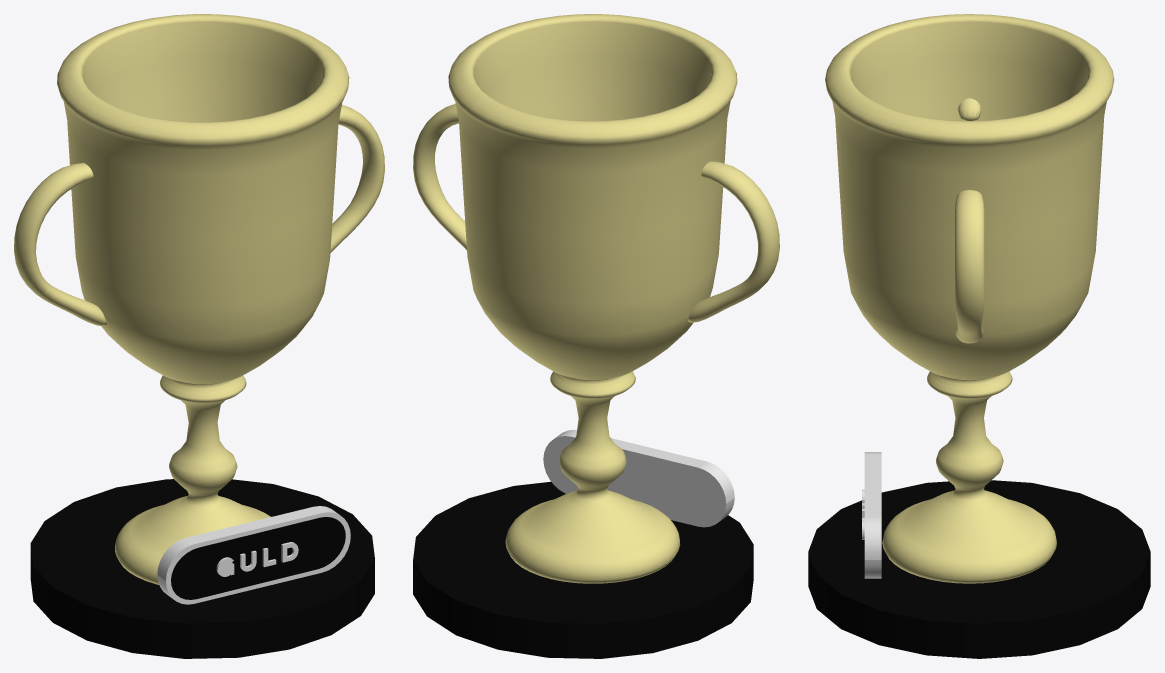
File: trophy model.fbx
3 renders of one model, left to right at view 1: azimuth 30°, elevation 25°; view 2: azimuth 150°, elevation 25°; view 3: azimuth 270°, elevation 25°, orthographic.
Visible parts, largest first — view 1: trophy_geo, trophybase_geo, plaquecolor_geo1, kalium_textgeo; view 2: trophy_geo, trophybase_geo, plaquecolor_geo1; view 3: trophy_geo, trophybase_geo, plaquecolor_geo1.
Boxes of the visible parts, bbox=[...] form: trophy_geo: bbox=[14, 14, 384, 584]; trophybase_geo: bbox=[30, 479, 374, 658]; plaquecolor_geo1: bbox=[157, 506, 350, 604]; kalium_textgeo: bbox=[216, 542, 298, 576]; trophy_geo: bbox=[413, 14, 779, 583]; trophybase_geo: bbox=[413, 481, 753, 658]; plaquecolor_geo1: bbox=[543, 429, 734, 527]; trophy_geo: bbox=[825, 14, 1114, 583]; trophybase_geo: bbox=[808, 480, 1150, 658]; plaquecolor_geo1: bbox=[864, 452, 881, 578].
Size of the model in its own units: 22.05 by 30.09 by 18.1.
